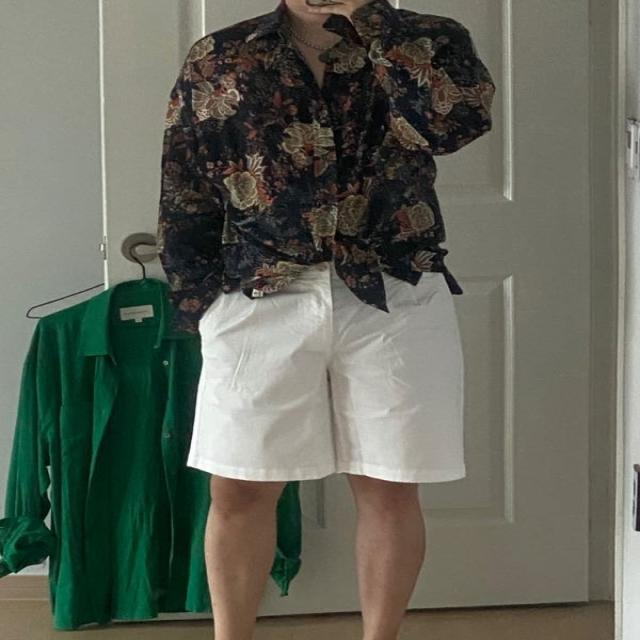shirt: (155, 5, 496, 318)
shortpants: (188, 264, 464, 486)
